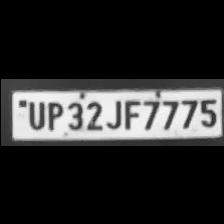2: (82, 97, 104, 130)
3: (63, 97, 83, 130)
5: (195, 96, 219, 128)
7: (139, 96, 159, 130), (157, 96, 177, 130), (176, 96, 196, 128)
F: (122, 96, 140, 130)
J: (104, 96, 122, 130)
P: (42, 98, 62, 130)
U: (22, 98, 44, 130)
